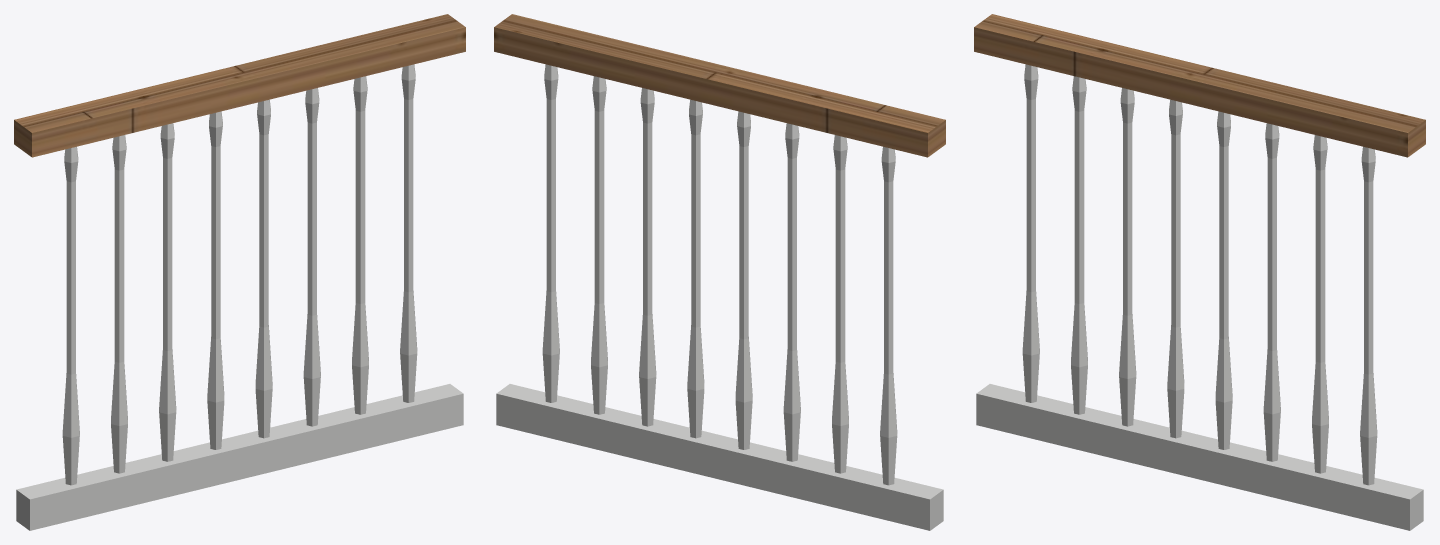
Rendered from rail_111.glb.
3 renders of one model, left to right at view 1: azimuth 30°, elevation 25°; view 2: azimuth 150°, elevation 25°; view 3: azimuth 330°, elevation 25°, orthographic.
Parts seen in each view (by area): view 1: rail_111_trim, rail_111_floor; view 2: rail_111_trim, rail_111_floor; view 3: rail_111_trim, rail_111_floor.
Boxes of the visible parts, x1,y1,x2,y2 form: rail_111_trim: (16,64,463,530); rail_111_floor: (14,14,465,157); rail_111_trim: (496,64,943,530); rail_111_floor: (494,14,945,157); rail_111_trim: (976,64,1423,530); rail_111_floor: (974,14,1425,157).
Bounding box in the file's own units: 1.11 × 0.977 × 0.08.
2 materials, 1 textured.
